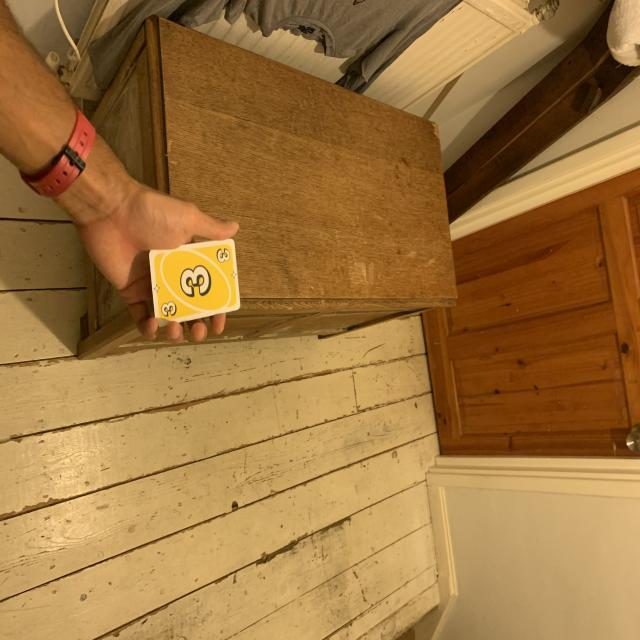lyellow-3: (212, 245, 233, 267)
